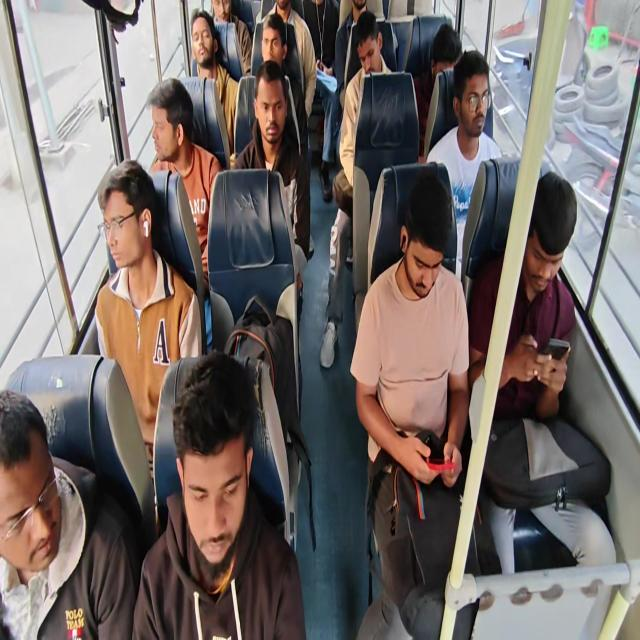person: (349, 170, 482, 638), (467, 170, 617, 575), (131, 349, 307, 639), (94, 159, 203, 484), (0, 387, 136, 638), (320, 11, 394, 368), (146, 77, 222, 352), (233, 59, 311, 297), (425, 49, 503, 280), (292, 0, 340, 201), (259, 12, 309, 163), (189, 8, 239, 154), (413, 23, 462, 154), (334, 0, 368, 120), (291, 0, 339, 75), (209, 0, 251, 76)
